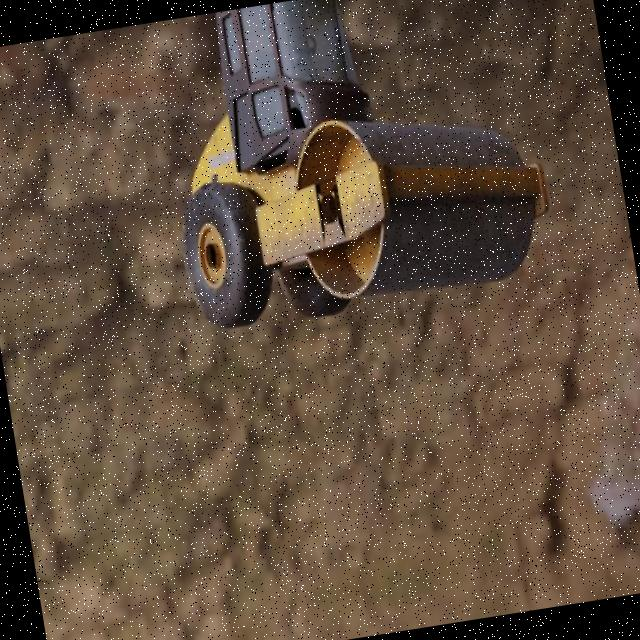Roller: (145, 0, 560, 338)
